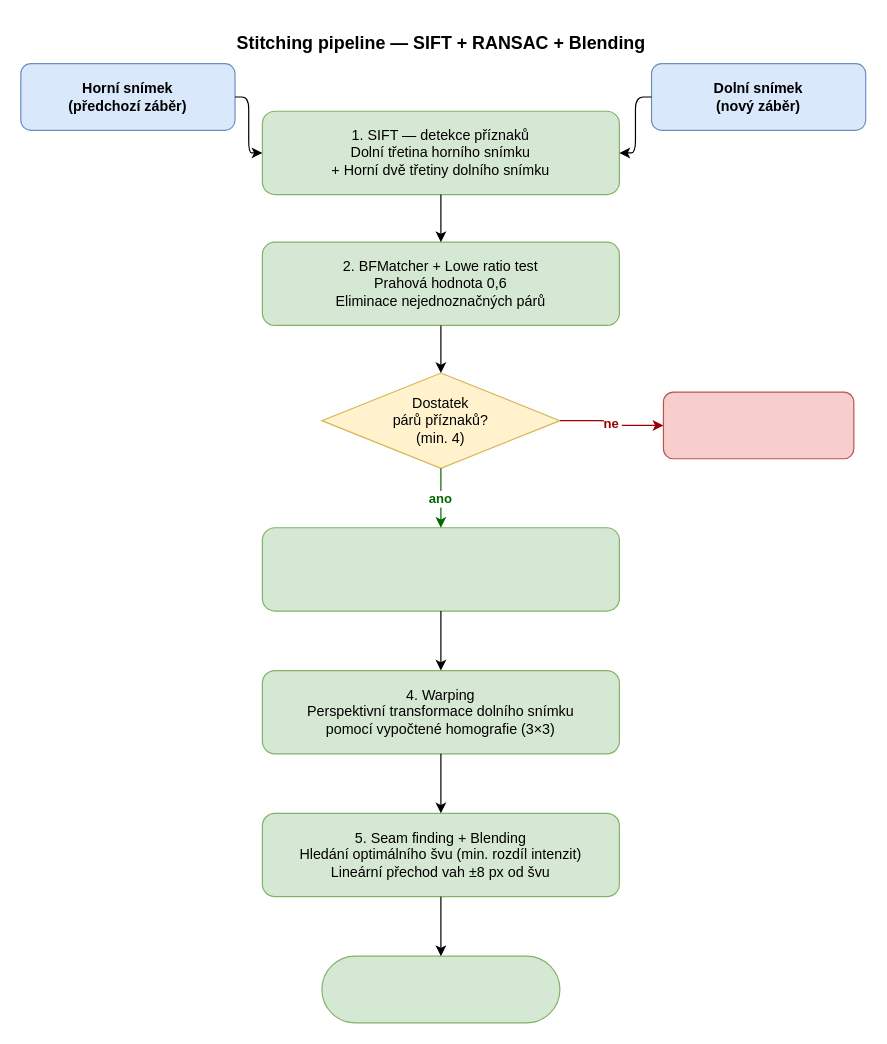
Image size: 887x1044. Some labels were removed from this diagram. The shapes that lost their labels are listed below. From the top down, each one's centre as x and y in pixels, then its label:
[758,425]: Fallback Přímé spojení snímků
[440,569]: 3. RANSAC — odhad homografie Iterativní výběr 4 bodů Maximalizace počtu inlierů
[440,989]: Složený obraz (připraven k OCR)
